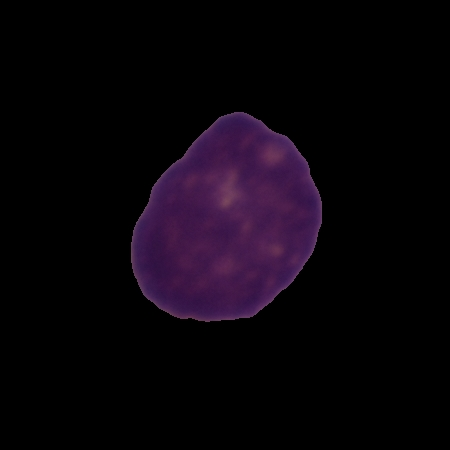HEM: (127, 108, 327, 325)
